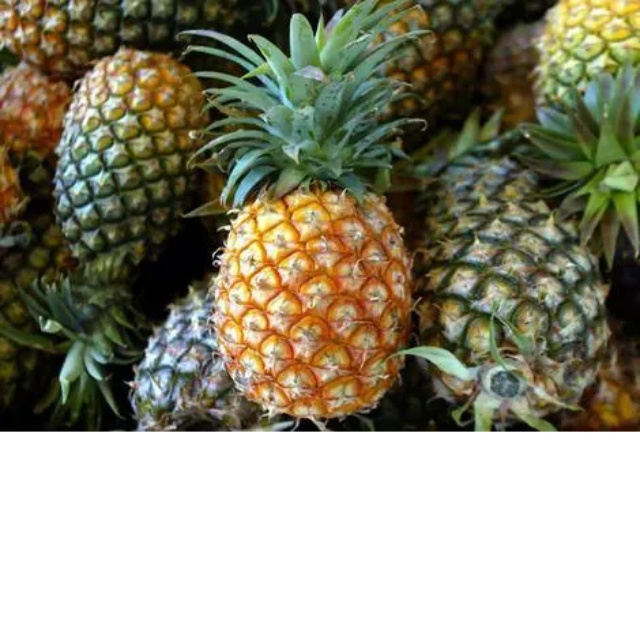thom: (206, 132, 415, 424), (417, 128, 616, 413), (47, 39, 205, 296)
